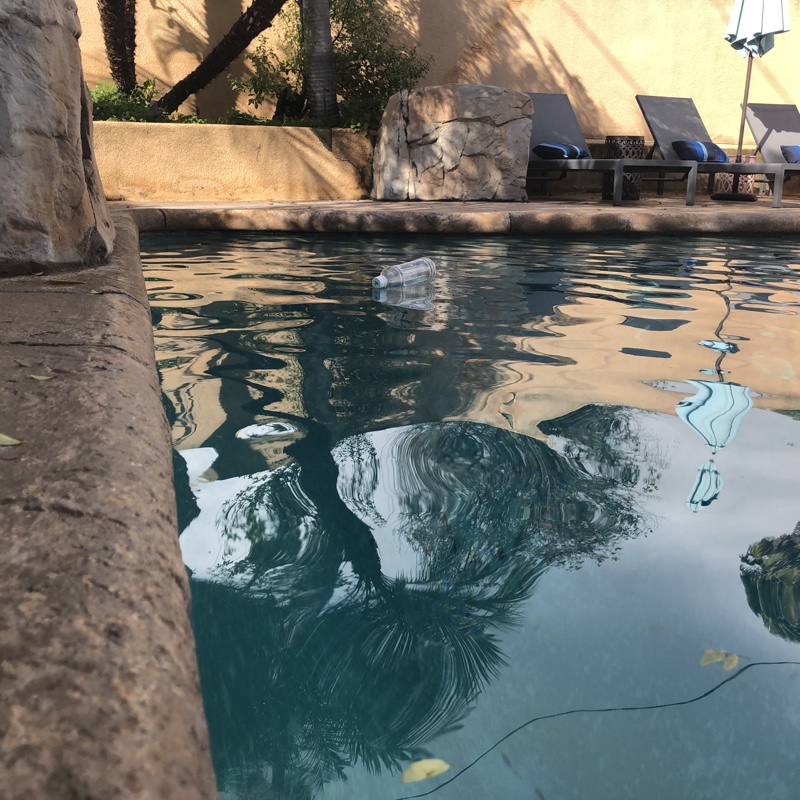Plastic Bottle: (369, 251, 438, 292)
